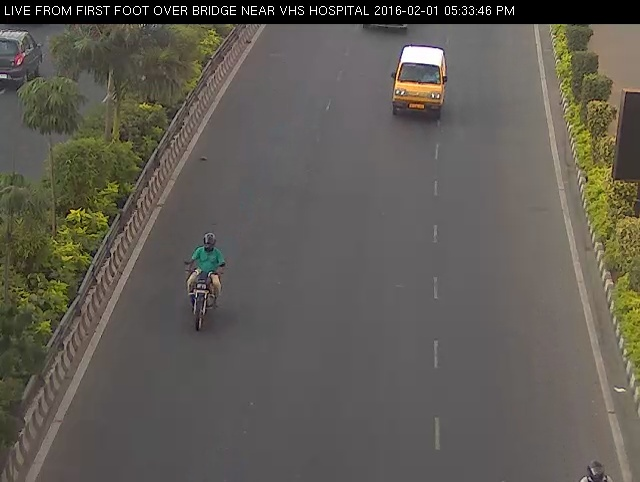Car: (381, 39, 457, 127), (347, 11, 421, 37)
Person: (170, 222, 237, 336), (566, 452, 618, 482)
